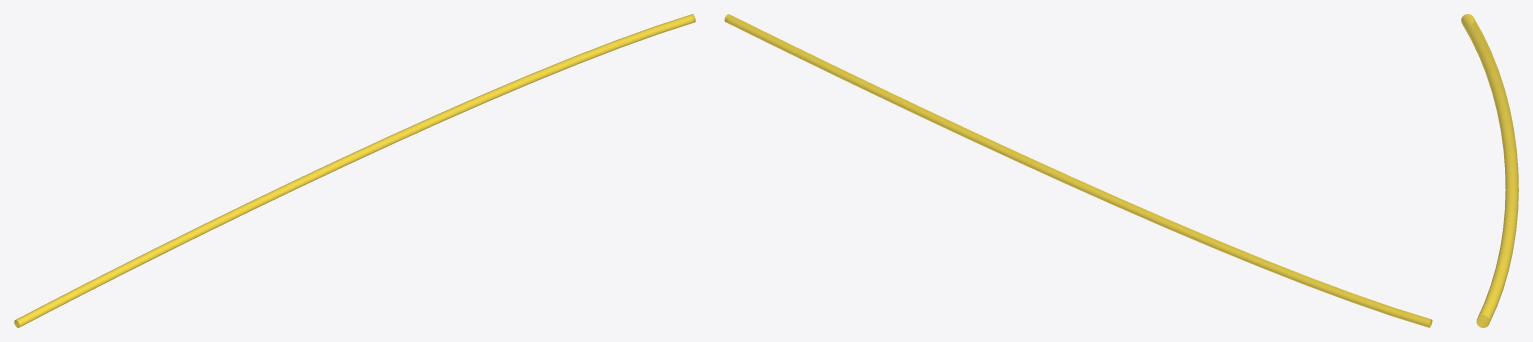
The model's file is Event_27938768_track_76.fbx.
3 renders of one model, left to right at view 1: azimuth 30°, elevation 25°; view 2: azimuth 150°, elevation 25°; view 3: azimuth 270°, elevation 25°, orthographic. The views are drawn at different scales.
Parts seen in each view (by area): view 1: Model; view 2: Model; view 3: Model.
Boxes of the visible parts, x1,y1,x2,y2 form: Model: (14,14,695,327); Model: (724,14,1432,327); Model: (1461,14,1518,327).
Size of the model in its own units: 3.61 by 0.7251 by 0.173.
